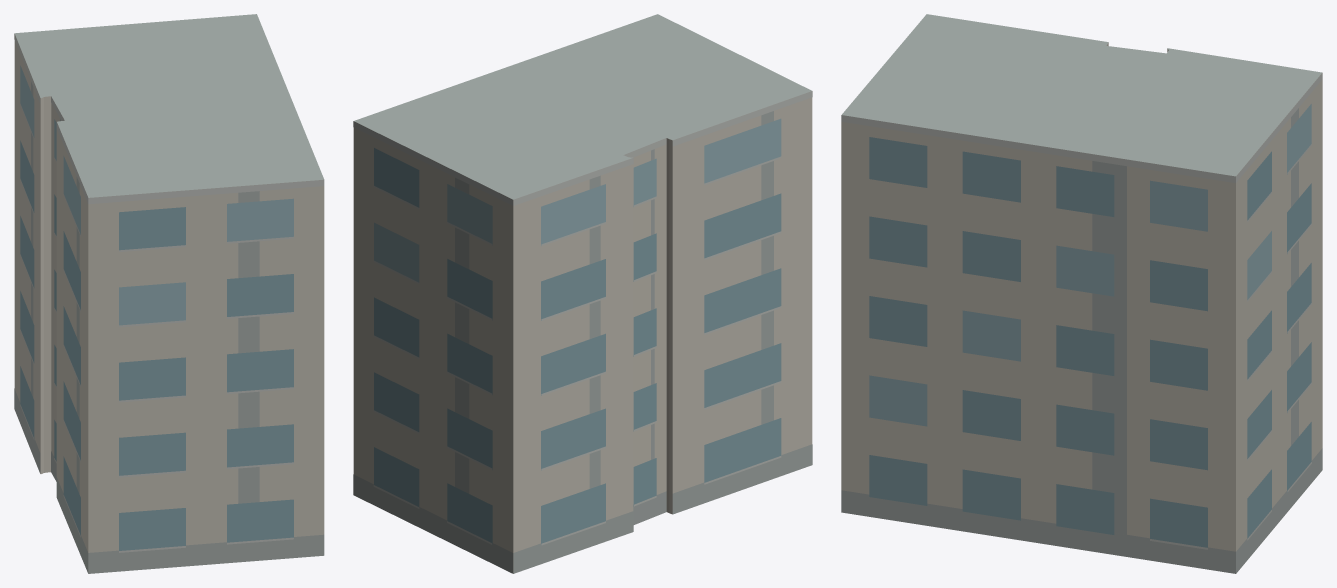
File: survey-upis-32852642.glb
The picture shows the model from 3 angles, left to right: view 1: azimuth 30°, elevation 25°; view 2: azimuth 150°, elevation 25°; view 3: azimuth 270°, elevation 25°; orthographic projection. The views are drawn at different scales.
Parts seen in each view (by area): view 1: survey-upis-32852642.tmp; view 2: survey-upis-32852642.tmp; view 3: survey-upis-32852642.tmp.
Boxes of the visible parts, x1,y1,x2,y2 form: survey-upis-32852642.tmp: (14, 14, 324, 573); survey-upis-32852642.tmp: (353, 14, 812, 573); survey-upis-32852642.tmp: (841, 14, 1322, 573).
Size of the model in its own units: 12.54 by 14.3 by 15.7.
